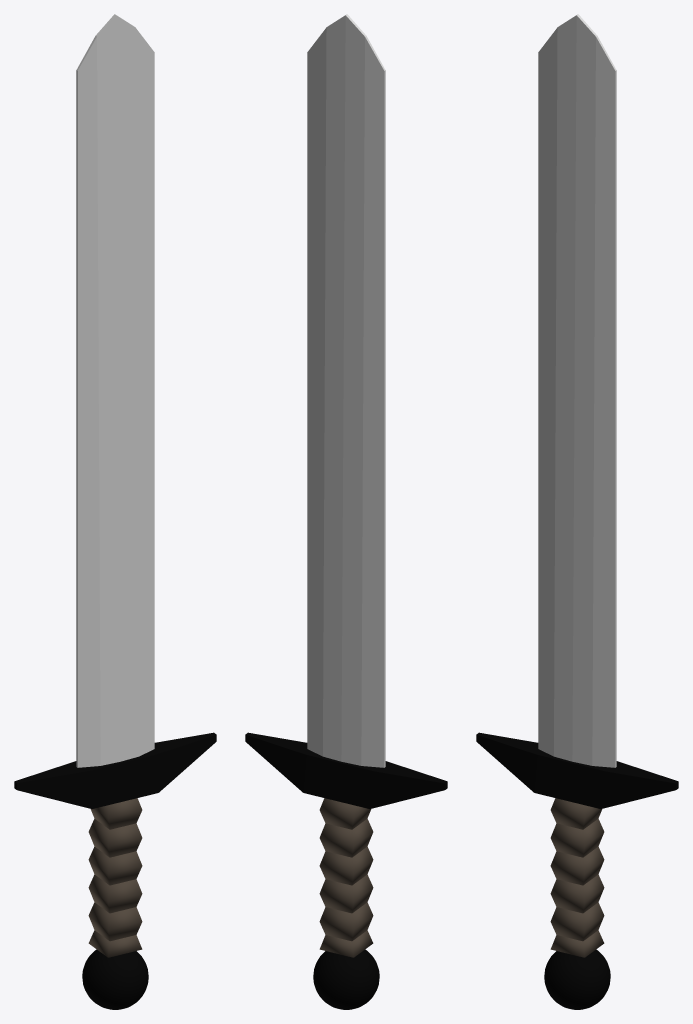
Rendered from sword_04.fbx.
3 views of the same model, side by side, from view 1: azimuth 30°, elevation 25°; view 2: azimuth 150°, elevation 25°; view 3: azimuth 330°, elevation 25° (orthographic).
Visible parts, largest first — view 1: Cube.002, Cube, Cube.001, Sphere; view 2: Cube.002, Cube, Cube.001, Sphere; view 3: Cube.002, Cube, Cube.001, Sphere.
Part boxes in pixels (x1=…): Cube.002: x1=76, y1=14, x2=154, y2=767; Cube: x1=88, y1=798, x2=142, y2=957; Cube.001: x1=14, y1=732, x2=216, y2=808; Sphere: x1=82, y1=949, x2=148, y2=1009; Cube.002: x1=307, y1=14, x2=385, y2=767; Cube: x1=319, y1=798, x2=373, y2=957; Cube.001: x1=245, y1=732, x2=447, y2=808; Sphere: x1=313, y1=949, x2=379, y2=1009; Cube.002: x1=538, y1=14, x2=616, y2=767; Cube: x1=550, y1=798, x2=604, y2=957; Cube.001: x1=476, y1=732, x2=678, y2=808; Sphere: x1=544, y1=949, x2=610, y2=1009.
Bounding box in the file's own units: 1169 × 5546 × 337.
